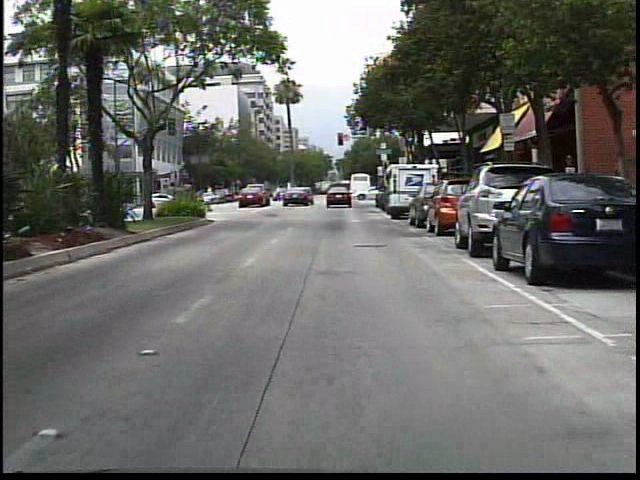person: (271, 181, 286, 205), (288, 183, 302, 205)
